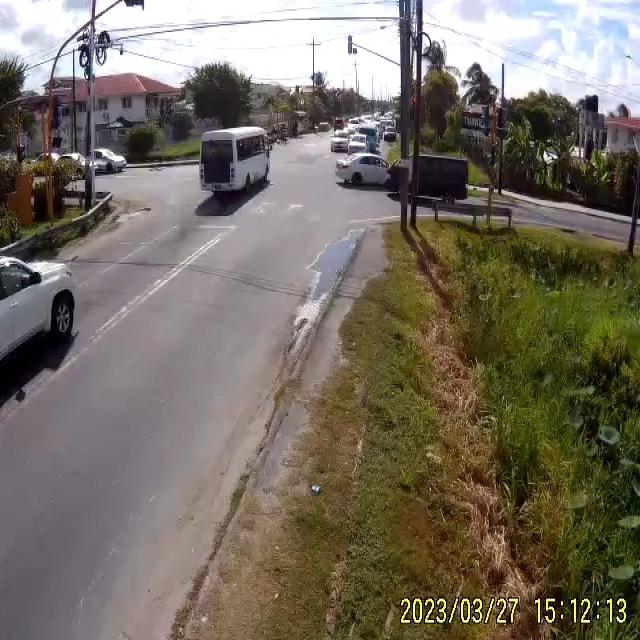bus: (200, 127, 271, 197)
car: (0, 254, 83, 378), (392, 152, 472, 210), (334, 154, 391, 187), (89, 148, 127, 174), (377, 120, 396, 141), (331, 132, 350, 152), (347, 135, 366, 153)
